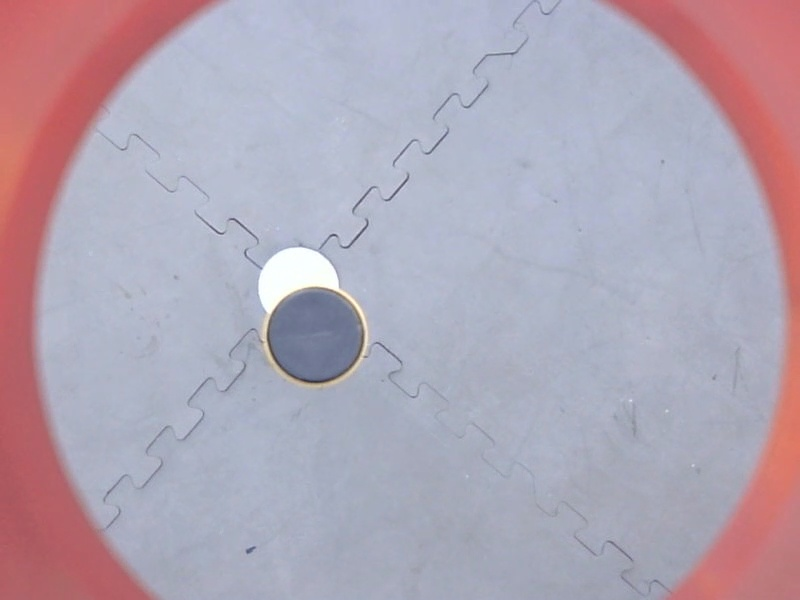tip: (259, 280, 375, 395)
